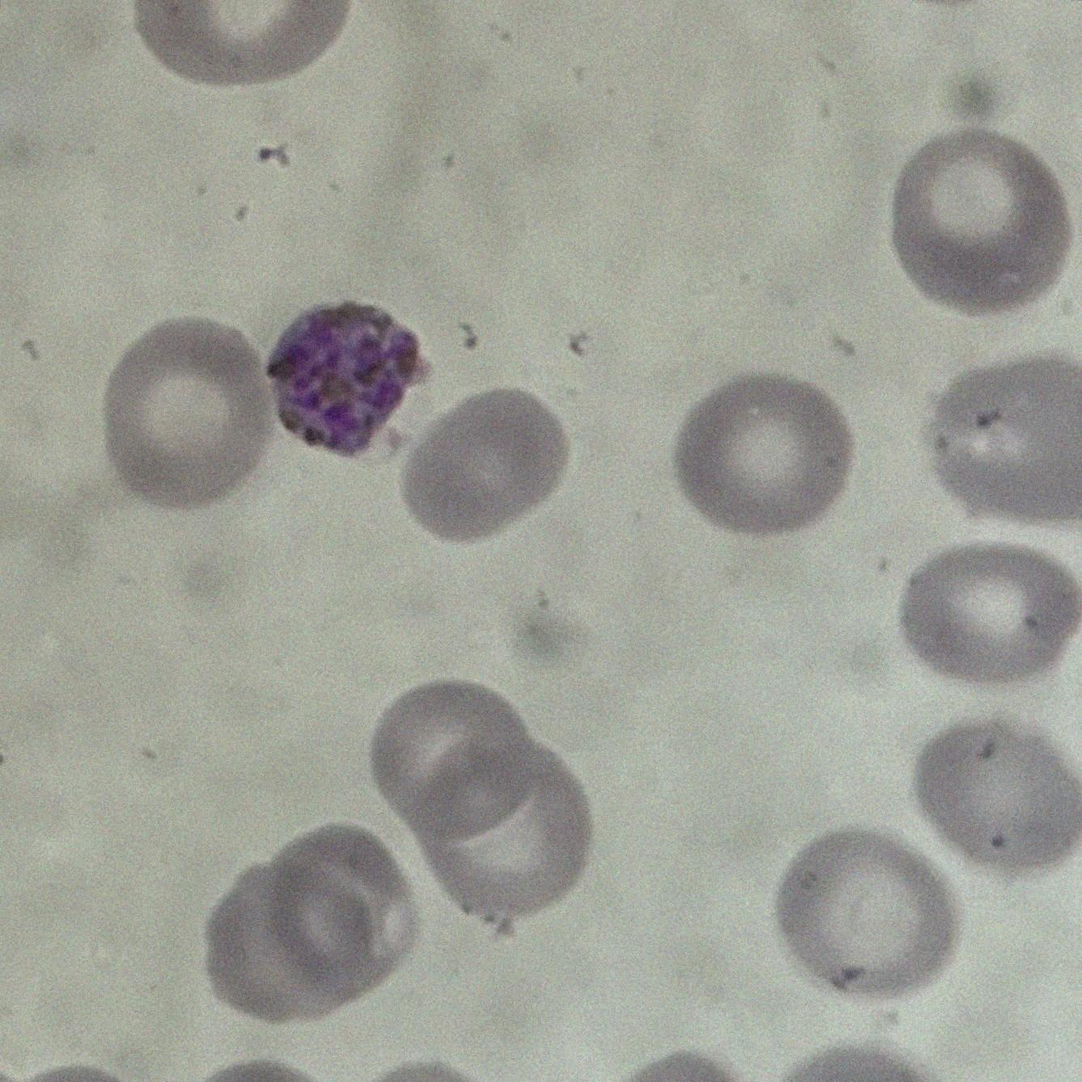Infected: (278, 295, 422, 450)
Uninfected: (105, 311, 278, 508), (893, 138, 1076, 313), (680, 373, 857, 536), (782, 832, 956, 995), (429, 756, 598, 916), (402, 383, 571, 542), (372, 681, 533, 842), (914, 721, 1082, 873), (901, 543, 1082, 682), (205, 859, 359, 1017), (275, 832, 418, 984)
